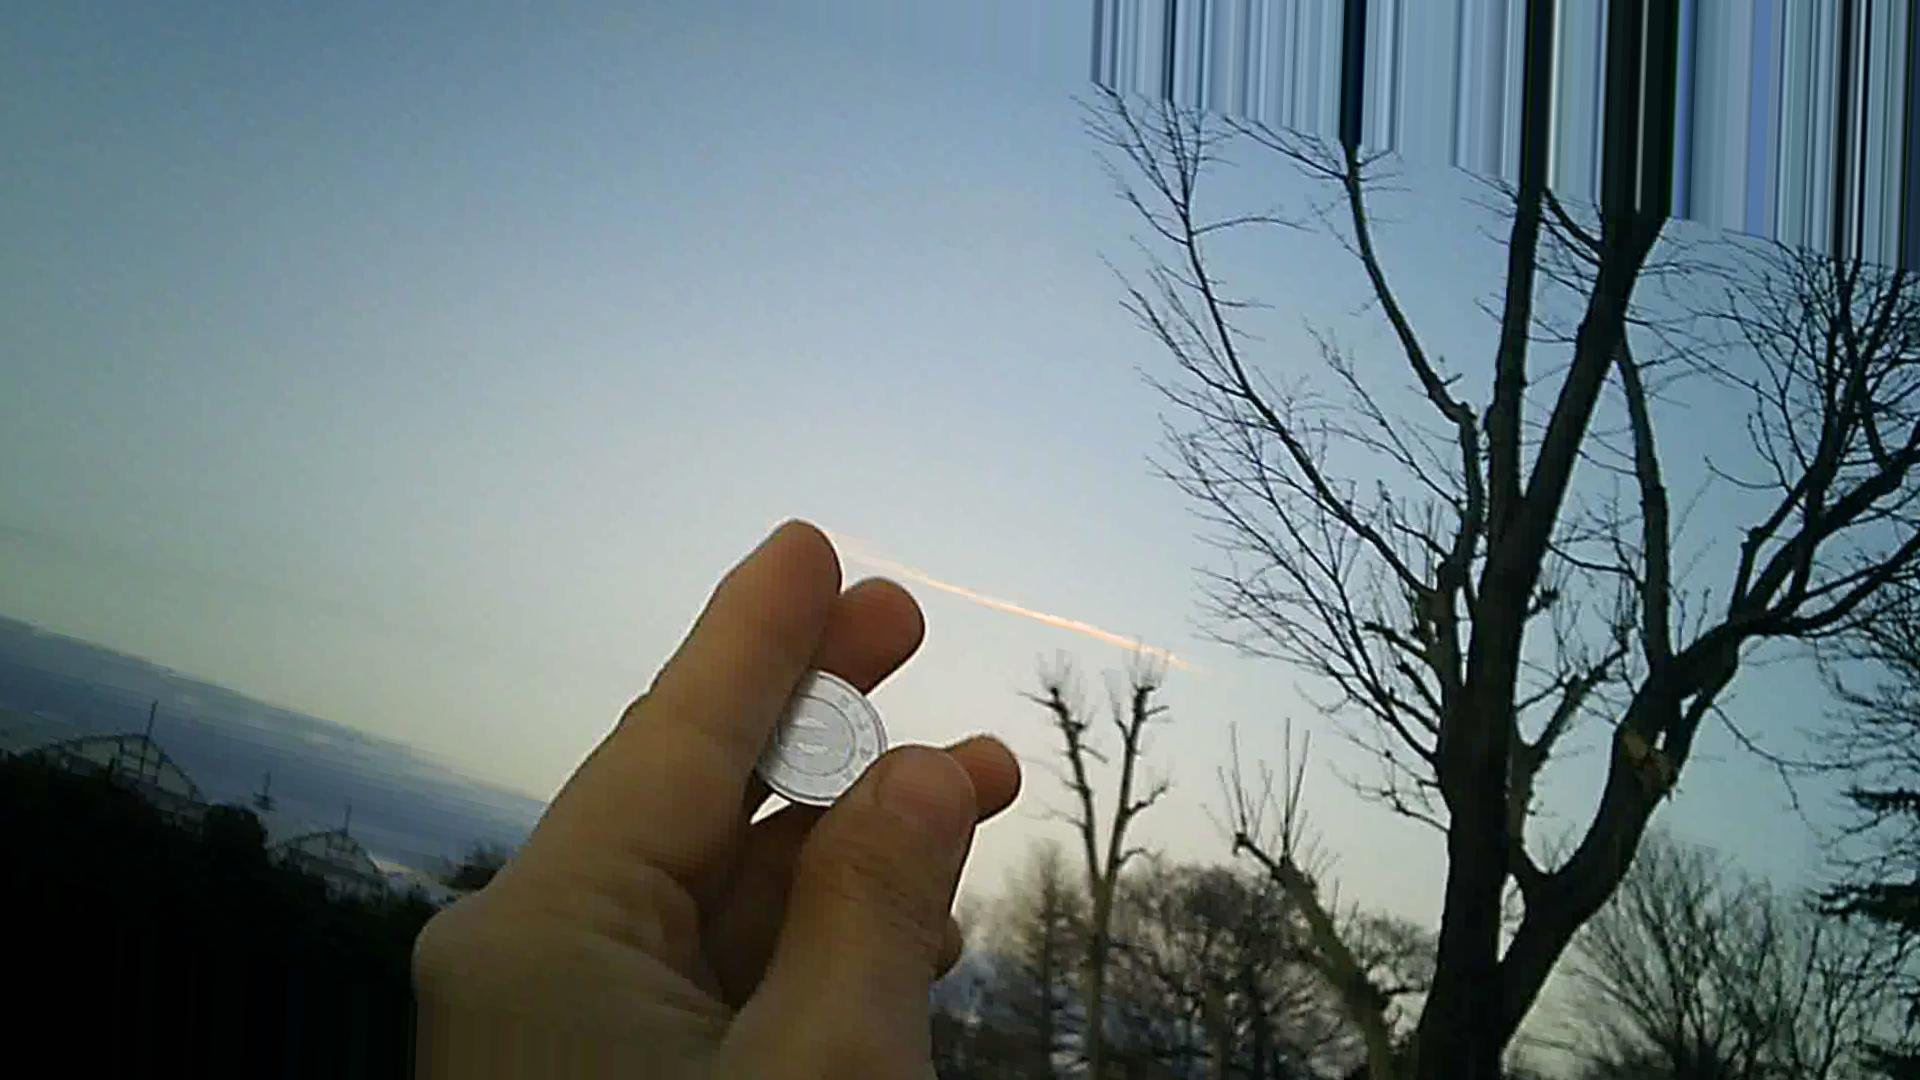1 Yen: (742, 657, 901, 798)
